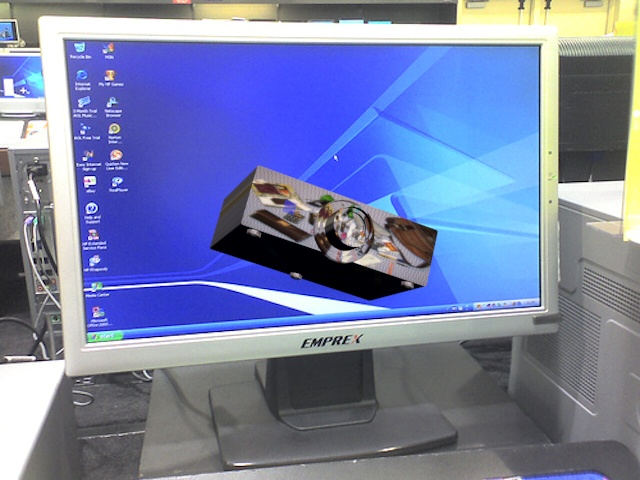projector: (209, 161, 448, 304)
